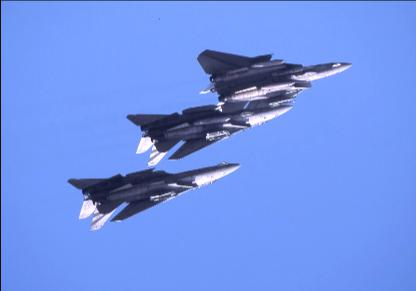EF2000: (66, 162, 240, 231), (124, 105, 292, 167), (196, 49, 352, 113)
